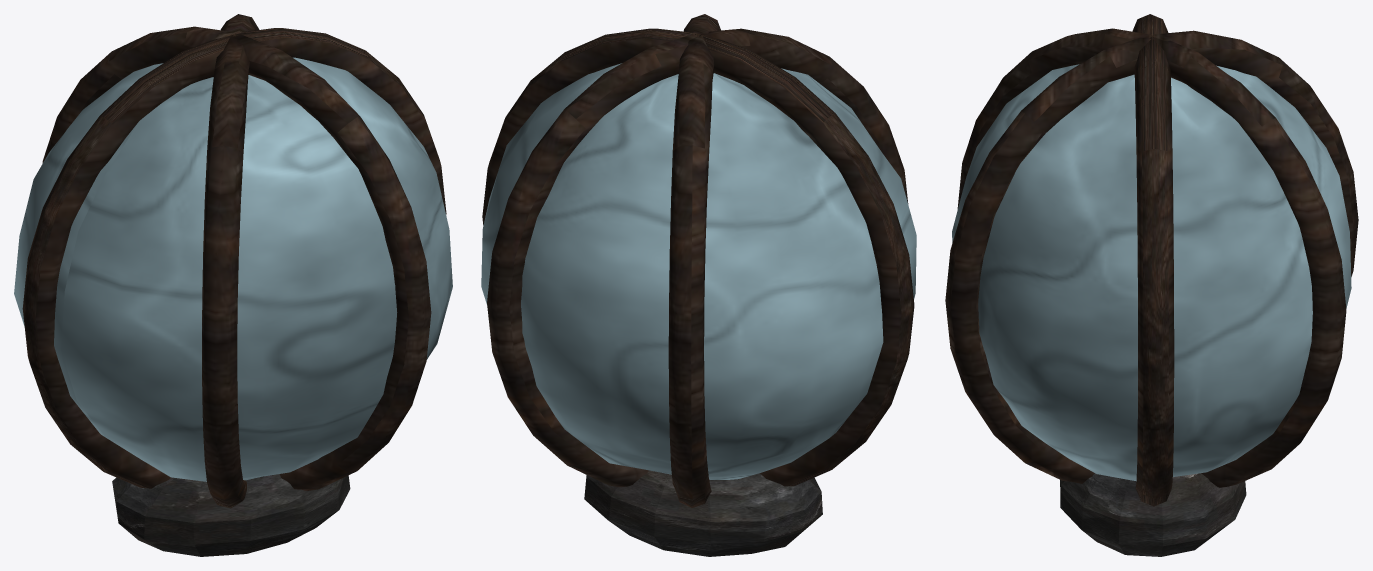
The model's file is clouded_sphere.glb.
The picture shows the model from 3 angles, left to right: view 1: azimuth 30°, elevation 25°; view 2: azimuth 150°, elevation 25°; view 3: azimuth 270°, elevation 25°; orthographic projection.
Parts seen in each view (by area): view 1: Gem clouded sphere, Thin bent yew cage stave, Thin bent yew cage stave.002, Thin bent yew cage stave.001, Grounded stone seat; view 2: Gem clouded sphere, Thin bent yew cage stave.001, Thin bent yew cage stave, Thin bent yew cage stave.002, Grounded stone seat; view 3: Gem clouded sphere, Thin bent yew cage stave.002, Thin bent yew cage stave.001, Thin bent yew cage stave, Grounded stone seat.
Part boxes in pixels (<box>): Gem clouded sphere: <box>14,57,452,481</box>; Thin bent yew cage stave: <box>22,28,446,488</box>; Thin bent yew cage stave.002: <box>42,26,431,491</box>; Thin bent yew cage stave.001: <box>202,14,259,508</box>; Grounded stone seat: <box>112,474,350,556</box>; Gem clouded sphere: <box>481,63,916,479</box>; Thin bent yew cage stave.001: <box>487,28,908,487</box>; Thin bent yew cage stave: <box>482,28,914,486</box>; Thin bent yew cage stave.002: <box>668,14,720,507</box>; Grounded stone seat: <box>584,470,822,556</box>; Gem clouded sphere: <box>952,64,1351,481</box>; Thin bent yew cage stave.002: <box>945,30,1358,483</box>; Thin bent yew cage stave.001: <box>957,28,1346,487</box>; Thin bent yew cage stave: <box>1132,14,1174,506</box>; Grounded stone seat: <box>1060,473,1246,556</box>.
Bounding box in the file's own units: 0.2277 × 0.2591 × 0.1945.
3 materials, 3 textured.
